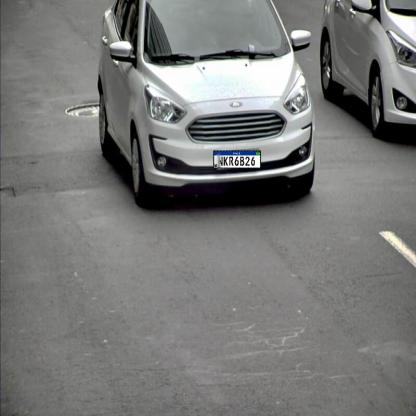PlacaM: (213, 151, 261, 168)
